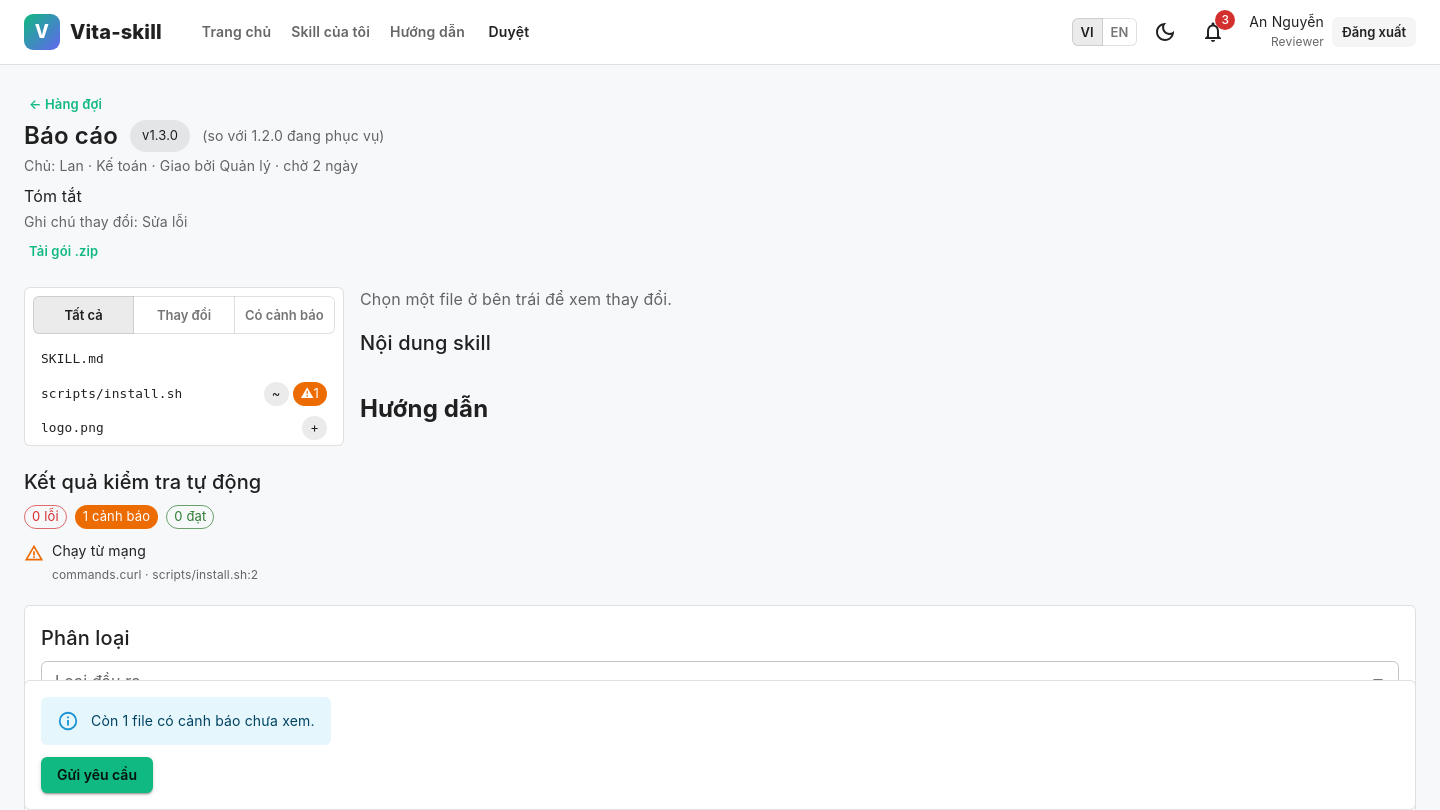
Test: ReviewDetailPage › file nhị phân chỉ hiện kích thước và băm
Click the text "logo.png": (72, 427) top-left (41, 420), bottom-right (104, 435)
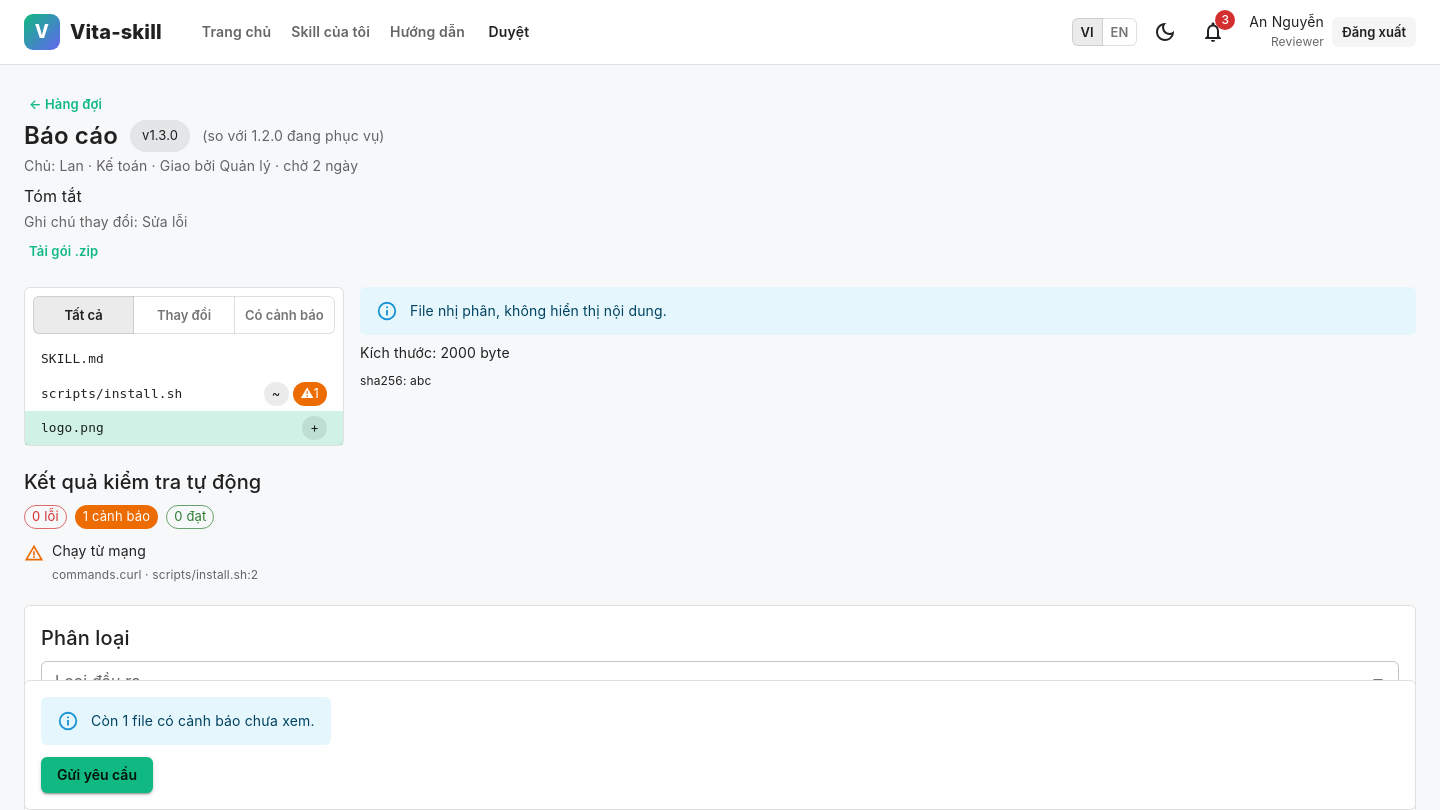
Now the text "File nhị phân, không hiển thị nội dung." is shown, box top-left (410, 302), bottom-right (667, 318)
Now the text "Kích thước: 2000 byte" is shown, box top-left (360, 344), bottom-right (510, 361)
